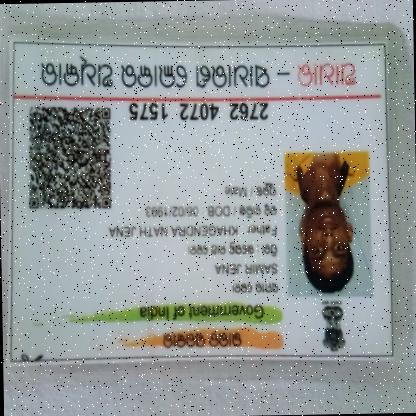aadhaar_card: (7, 20, 396, 382)
